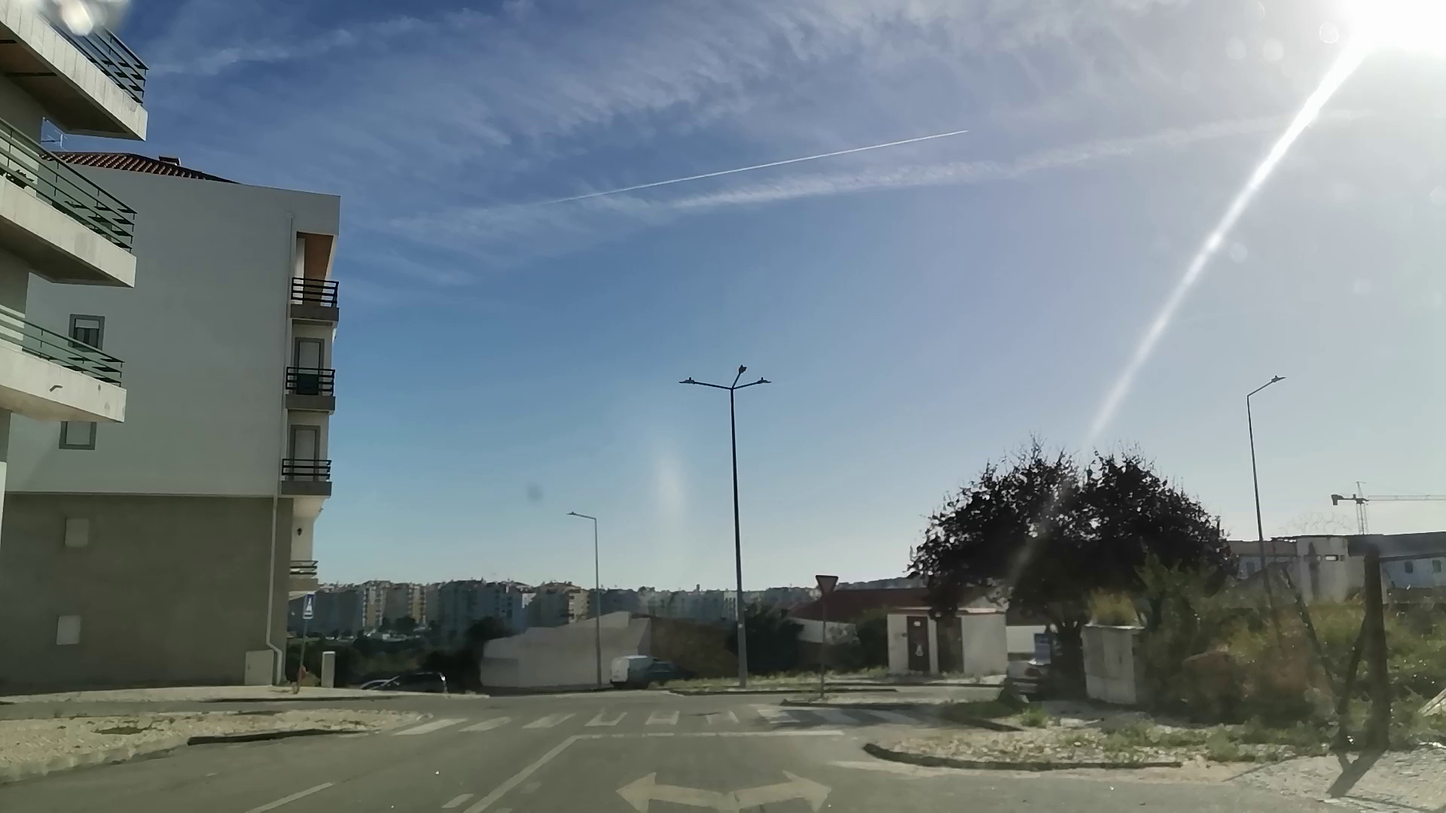Stairs: (383, 706, 915, 735)
